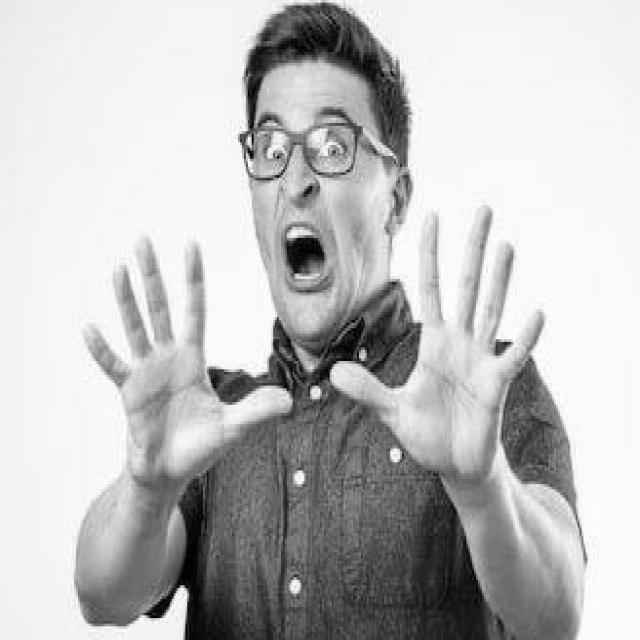stop: (327, 194, 548, 491), (79, 229, 296, 500)
